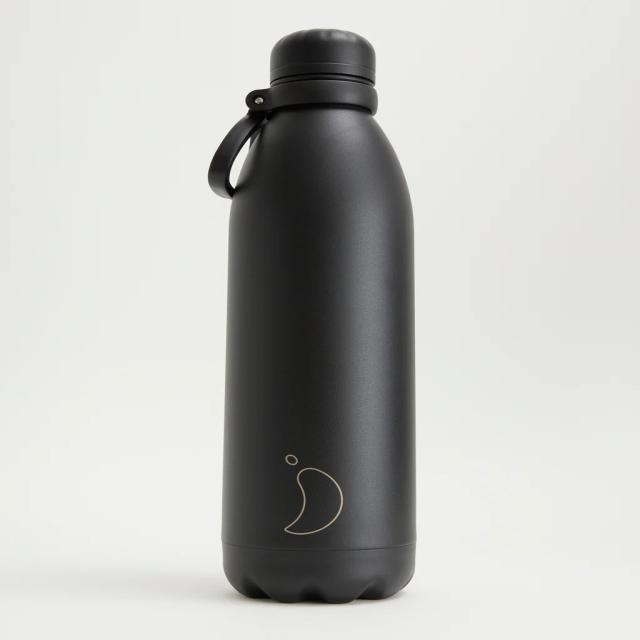Bottle: (185, 18, 436, 620)
